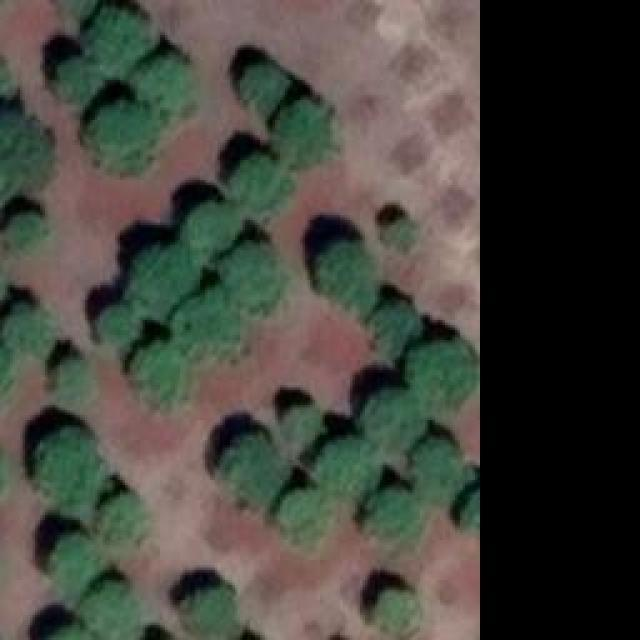Tree: (40, 428, 100, 513), (130, 245, 200, 315), (405, 343, 477, 407), (317, 240, 375, 313), (0, 115, 48, 203), (173, 293, 243, 353), (310, 438, 385, 491), (225, 435, 283, 503), (95, 100, 153, 165), (278, 97, 333, 165), (178, 580, 238, 638), (138, 55, 191, 120), (88, 8, 143, 68), (80, 583, 138, 638), (225, 245, 278, 303), (415, 440, 463, 503), (365, 392, 420, 446), (232, 158, 290, 208), (280, 488, 333, 541), (182, 202, 240, 250), (140, 345, 183, 408), (53, 532, 98, 590), (365, 490, 423, 535), (97, 493, 145, 546), (240, 63, 288, 113), (8, 305, 53, 355), (375, 302, 420, 350), (373, 587, 418, 635), (60, 55, 100, 95), (100, 305, 140, 345), (285, 405, 323, 445), (58, 358, 91, 398), (8, 213, 48, 243), (388, 217, 418, 245), (45, 625, 88, 640)
